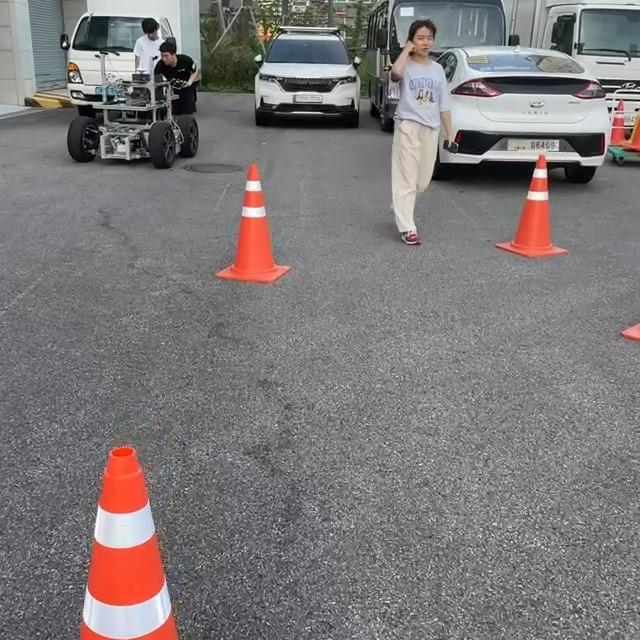fallen_object: (0, 380, 186, 640), (175, 143, 325, 319), (506, 137, 594, 319)
